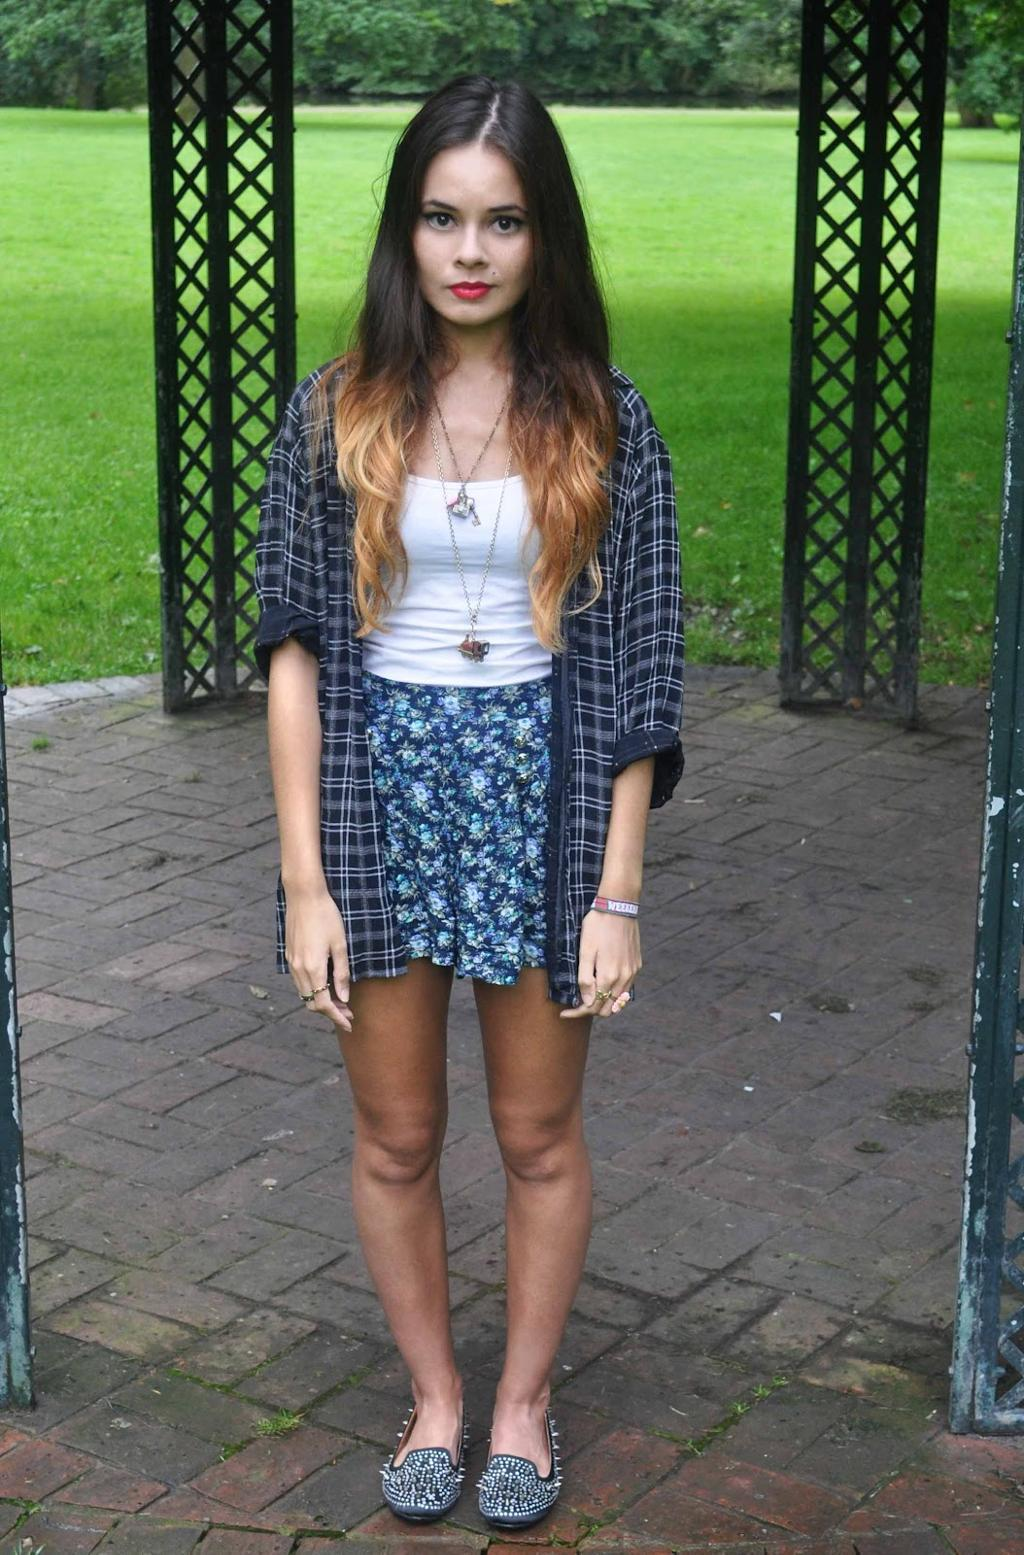face: (414, 150, 533, 326)
